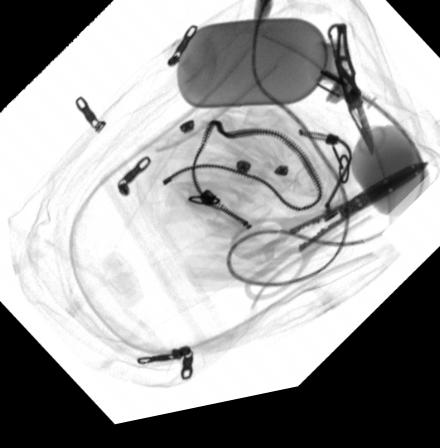Knife: (327, 34, 375, 172)
Scissors: (230, 179, 430, 316)
